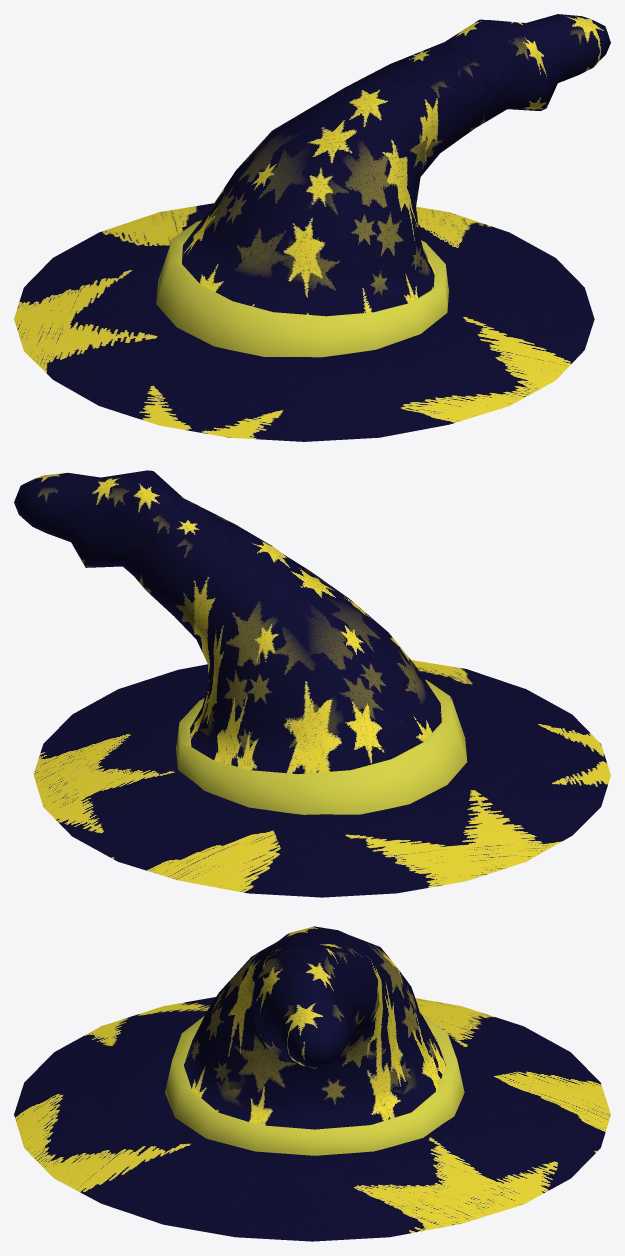
The model's file is HAT4.fbx.
The picture shows the model from 3 angles, top to bottom: view 1: azimuth 30°, elevation 25°; view 2: azimuth 150°, elevation 25°; view 3: azimuth 270°, elevation 25°; orthographic projection. The views are drawn at different scales.
Visible parts, largest first — view 1: Hat4; view 2: Hat4; view 3: Hat4.
Boxes of the visible parts, x1,y1,x2,y2 form: Hat4: (14, 14, 610, 441); Hat4: (14, 470, 610, 897); Hat4: (14, 926, 610, 1241).
Bounding box in the file's own units: 6650 × 2905 × 6000.
